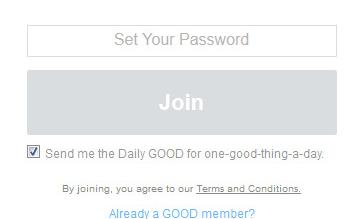button: (25, 69, 337, 138)
checkbox: (25, 144, 45, 160)
checkbox_with_label: (20, 143, 324, 162)
field: (25, 25, 337, 58)
